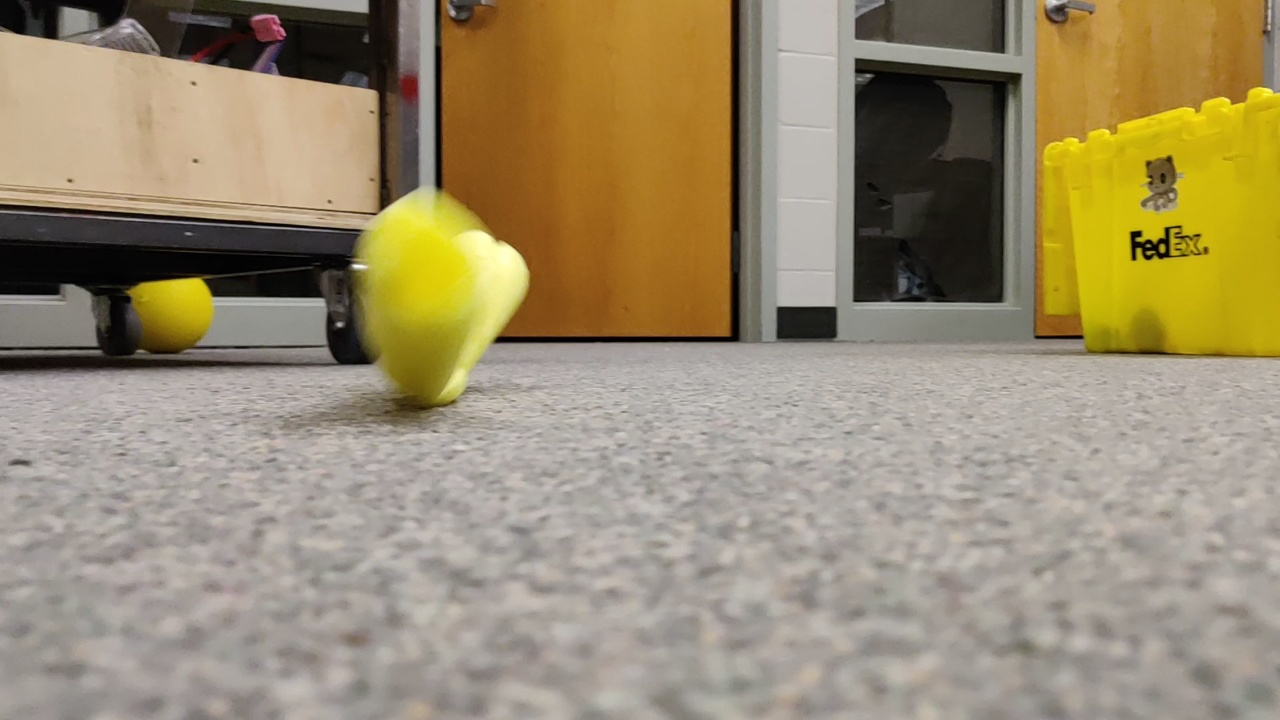Ball: (116, 278, 224, 350)
